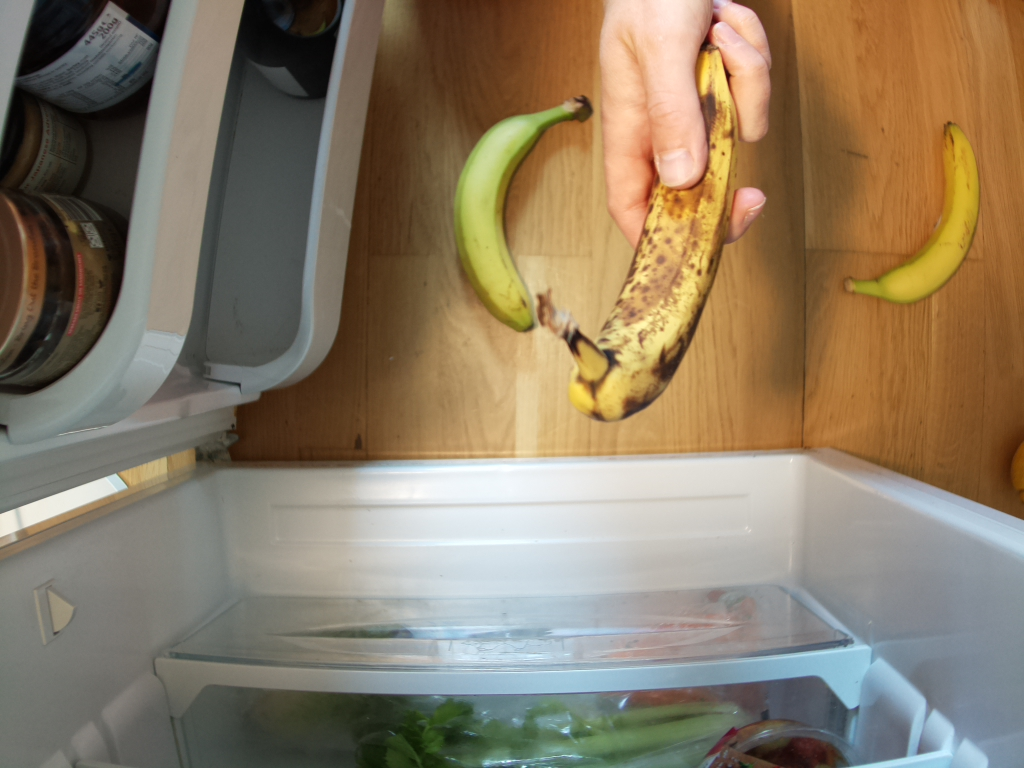banana-overripe: (540, 47, 742, 421)
banana-unripe: (442, 96, 591, 333), (840, 119, 982, 308)
